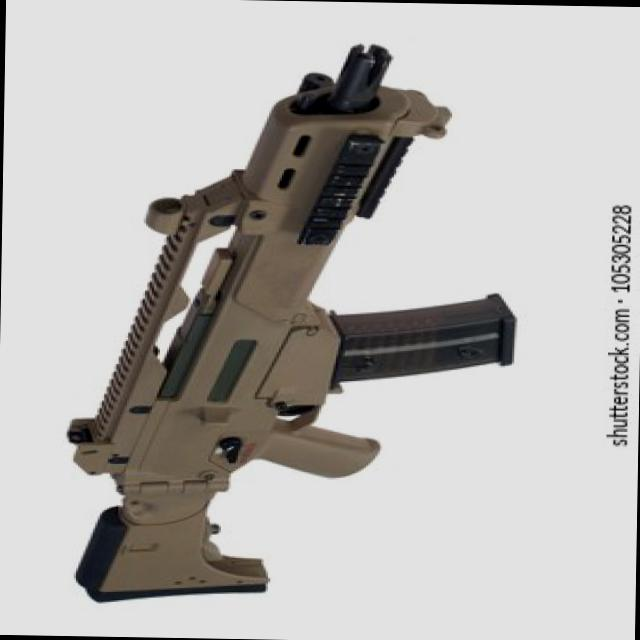long weapon: (76, 26, 466, 624)
